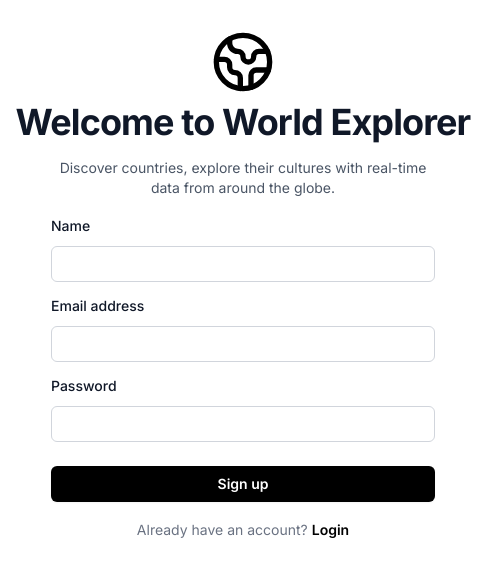
Signup Page › shows error for weak password
Type "Alice" into the field labelled "Name" at (243, 264), box [51,246,435,282]
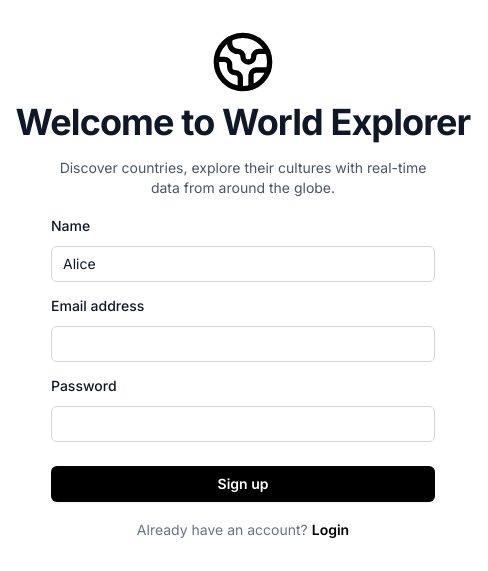
Type "alice@example.com" into the field labelled "Email address" at (243, 344), box [51,326,435,362]
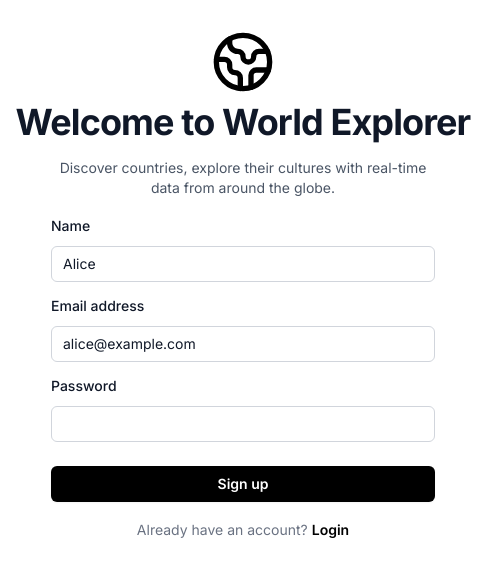
Type "123" into the password field labelled "Password" at (243, 424), box [51,406,435,442]
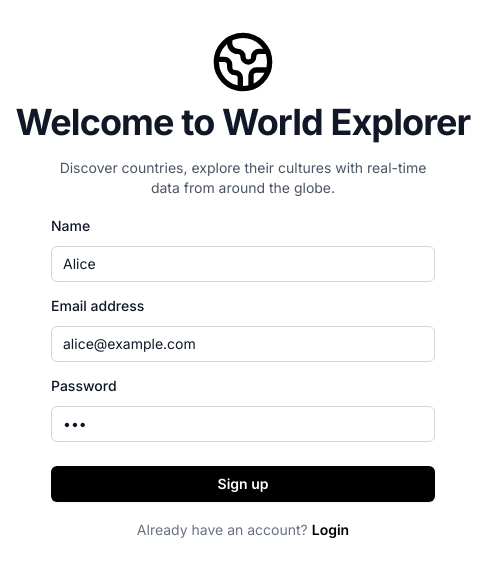
Click the button "Sign up" at (243, 484), box [51,466,435,502]
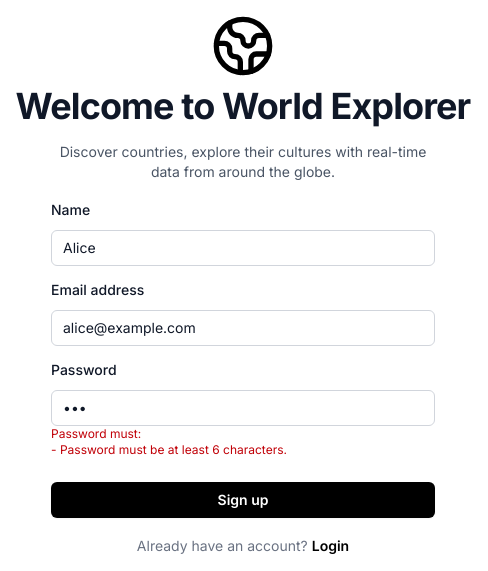
Expected: the list item "- Password must be at least 6 characters." is shown, [51,442,287,457]
